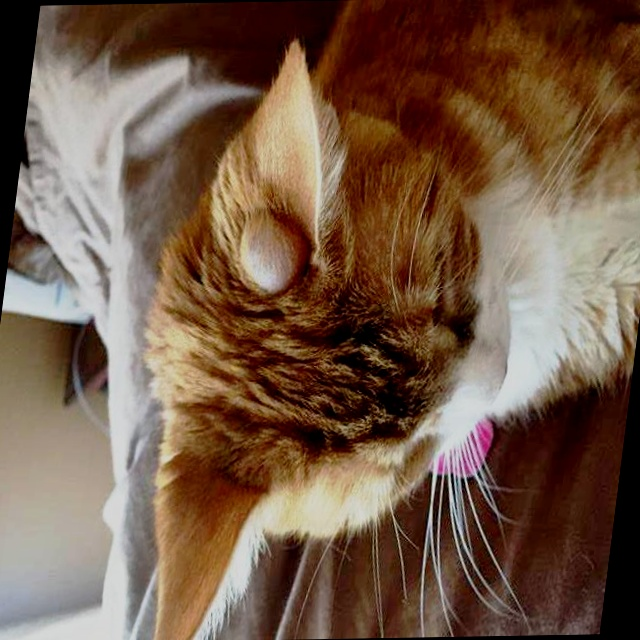lump_and_bump: (231, 218, 311, 292)
